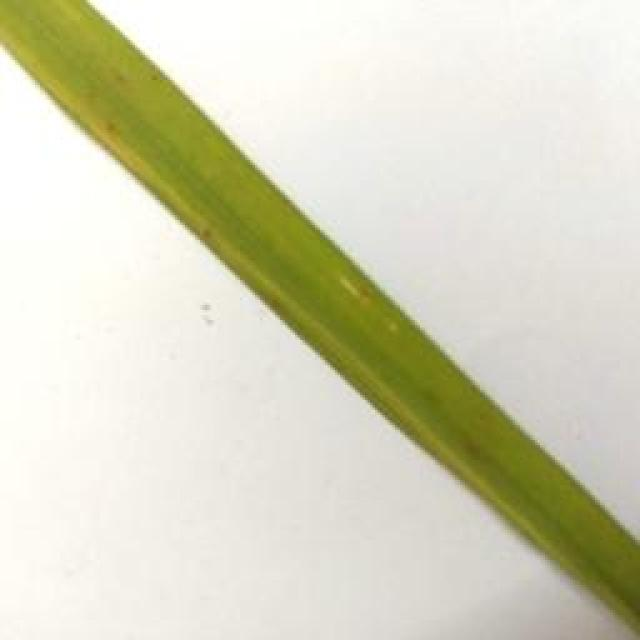Bacterial_Blight: (312, 261, 431, 345)
Brown_Spot: (83, 104, 144, 154), (182, 218, 231, 256), (461, 429, 486, 458)
